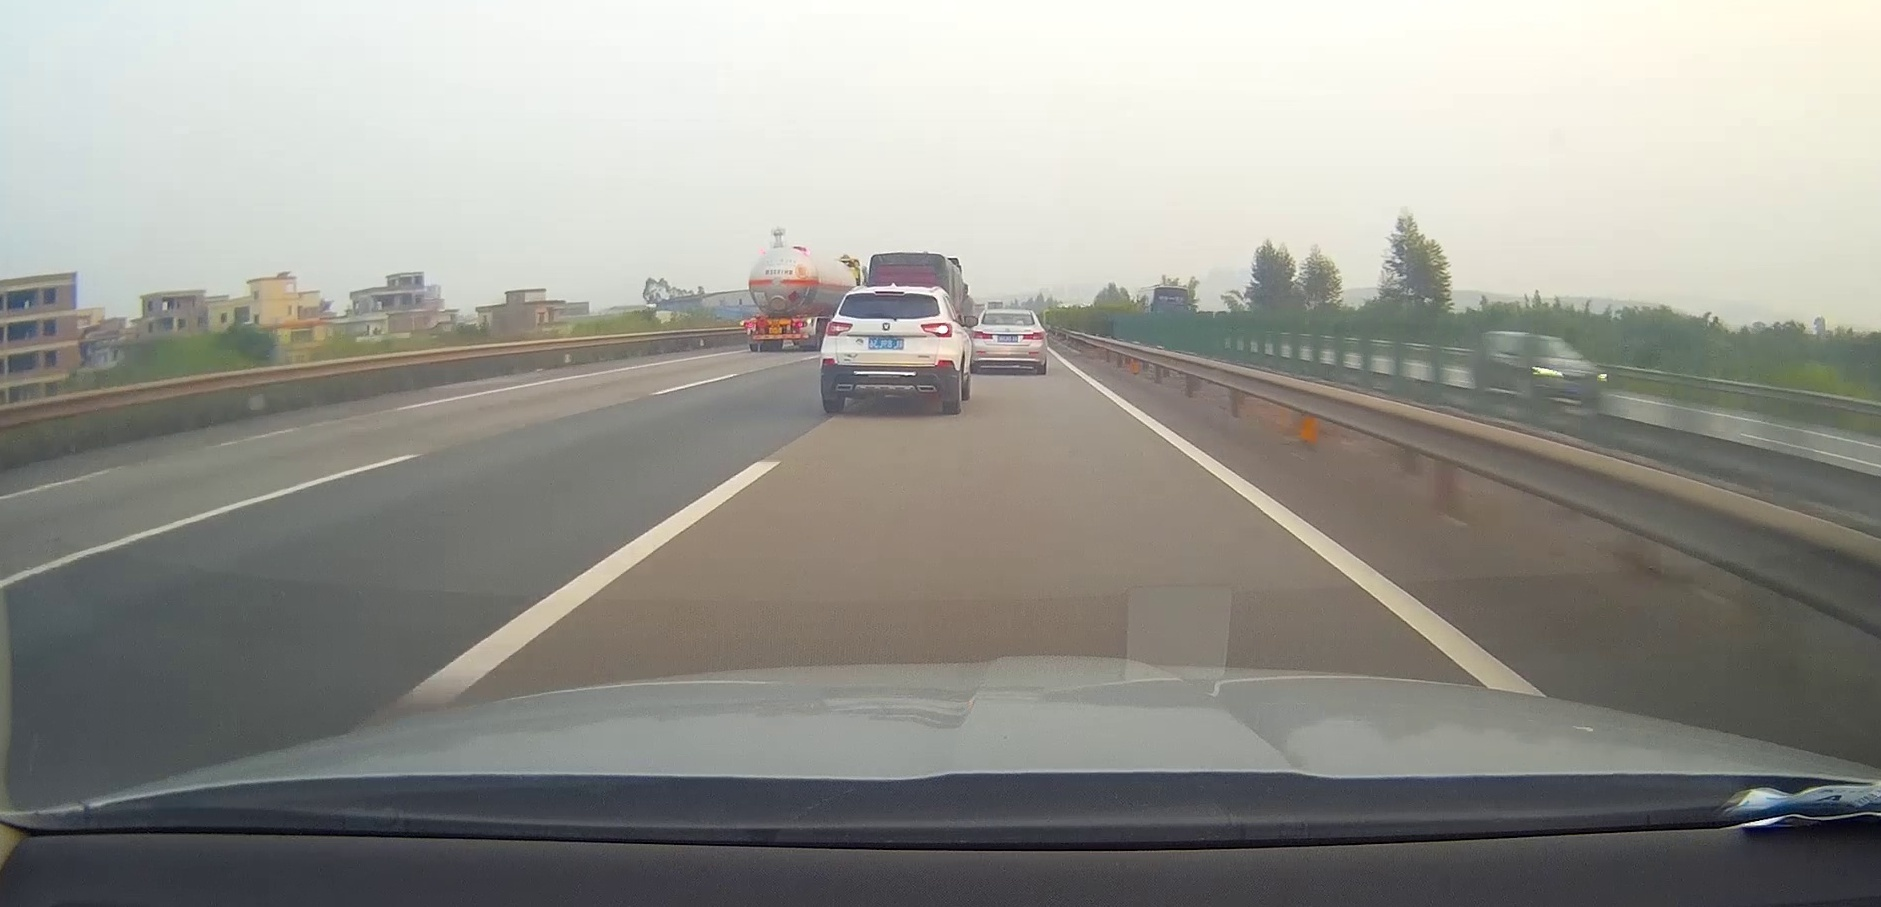L_light: (825, 323, 854, 337), (972, 330, 993, 340), (743, 322, 756, 328)
R_light: (919, 322, 952, 337), (1023, 330, 1044, 340), (795, 322, 807, 328)
T_light: (875, 290, 905, 296), (770, 318, 780, 323), (1002, 313, 1014, 316)
day-brake: (741, 317, 816, 352)
day-no: (970, 308, 1047, 374)
day-right: (821, 286, 960, 414)
